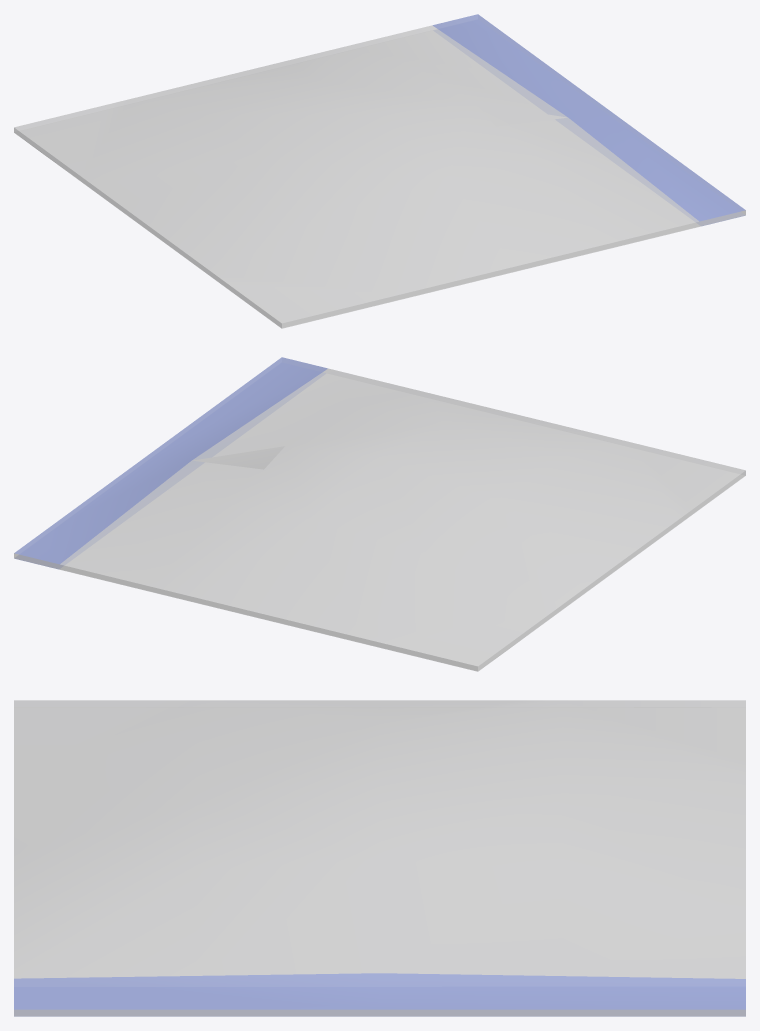
File: Zipper bag.fbx
3 views of the same model, one above another, from view 1: azimuth 30°, elevation 25°; view 2: azimuth 150°, elevation 25°; view 3: azimuth 270°, elevation 25° (orthographic). The views are drawn at different scales.
Visible parts, largest first — view 1: pPlane5; view 2: pPlane5; view 3: pPlane5.
Part boxes in pixels (bbox=[...]): pPlane5: bbox=[14, 14, 745, 328]; pPlane5: bbox=[14, 357, 745, 671]; pPlane5: bbox=[14, 700, 745, 1016].
Bounding box in the file's own units: 3.78 × 0.4618 × 3.78.
